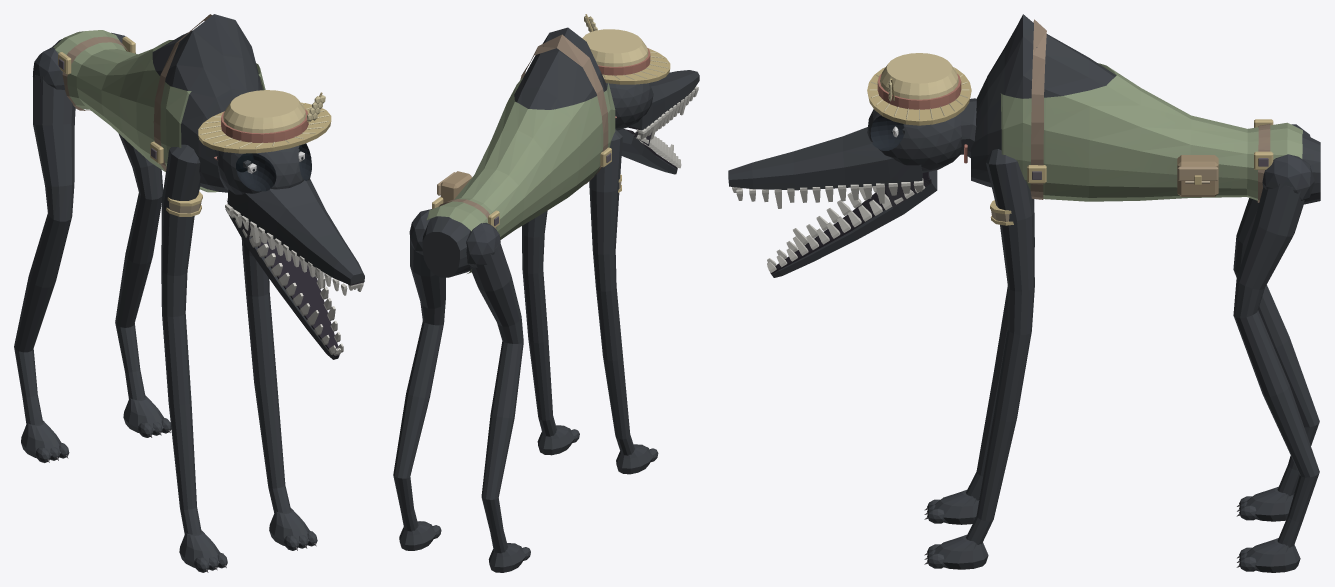
File: LongmawFarmer.glb
3 views of the same model, side by side, from view 1: azimuth 30°, elevation 25°; view 2: azimuth 150°, elevation 25°; view 3: azimuth 270°, elevation 25° (orthographic). The views are drawn at different scales.
Visible parts, largest first — view 1: Head, Body, LegR, ArmR, LegL, ArmL; view 2: Body, Head, LegR, ArmR, LegL, ArmL; view 3: Body, Head, LegL, ArmL, LegR, ArmR.
Boxes of the visible parts, <box> form: Head: <box>198,90,364,359</box>; Body: <box>52,14,265,192</box>; LegR: <box>14,47,75,462</box>; ArmR: <box>161,144,227,572</box>; LegL: <box>111,32,171,437</box>; ArmL: <box>241,238,317,550</box>; Body: <box>422,27,616,277</box>; Head: <box>582,14,699,174</box>; LegR: <box>466,222,530,572</box>; ArmR: <box>589,129,658,474</box>; LegL: <box>393,209,445,550</box>; ArmL: <box>522,210,579,455</box>; Body: <box>964,14,1320,204</box>; Head: <box>728,53,976,277</box>; LegL: <box>1233,154,1319,572</box>; ArmL: <box>924,149,1034,569</box>; LegR: <box>1233,124,1319,521</box>; ArmR: <box>924,198,1034,524</box>.
Size of the model in its own units: 1.9 by 6.9 by 7.03.
